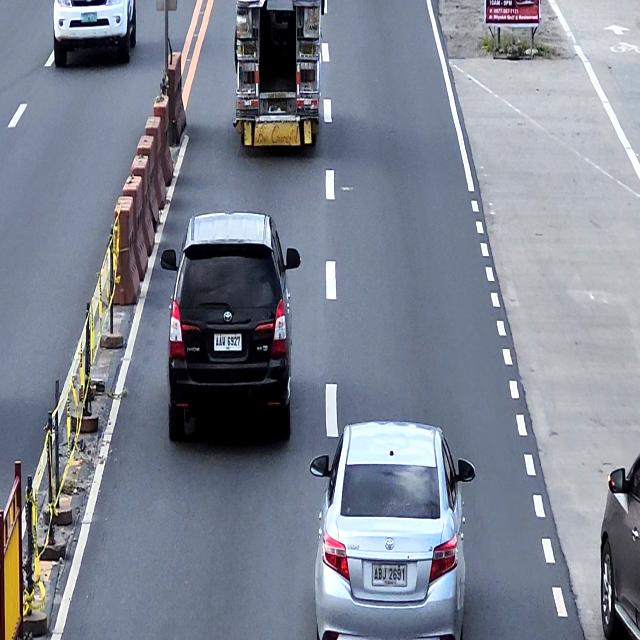Car: (309, 419, 476, 639), (160, 210, 300, 441), (600, 452, 640, 639), (53, 0, 136, 68)
Jeep: (233, 0, 327, 149)
License-Plate: (371, 562, 408, 588), (212, 330, 243, 352), (267, 97, 288, 114), (80, 11, 98, 23)
